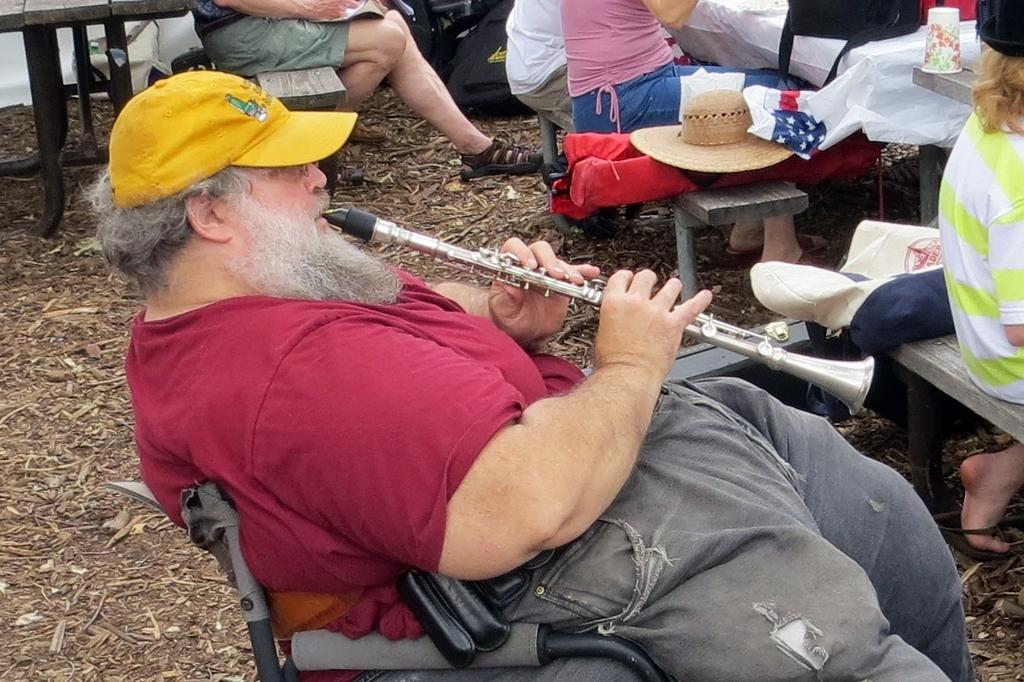Hat: (110, 66, 360, 210), (628, 86, 794, 172)
